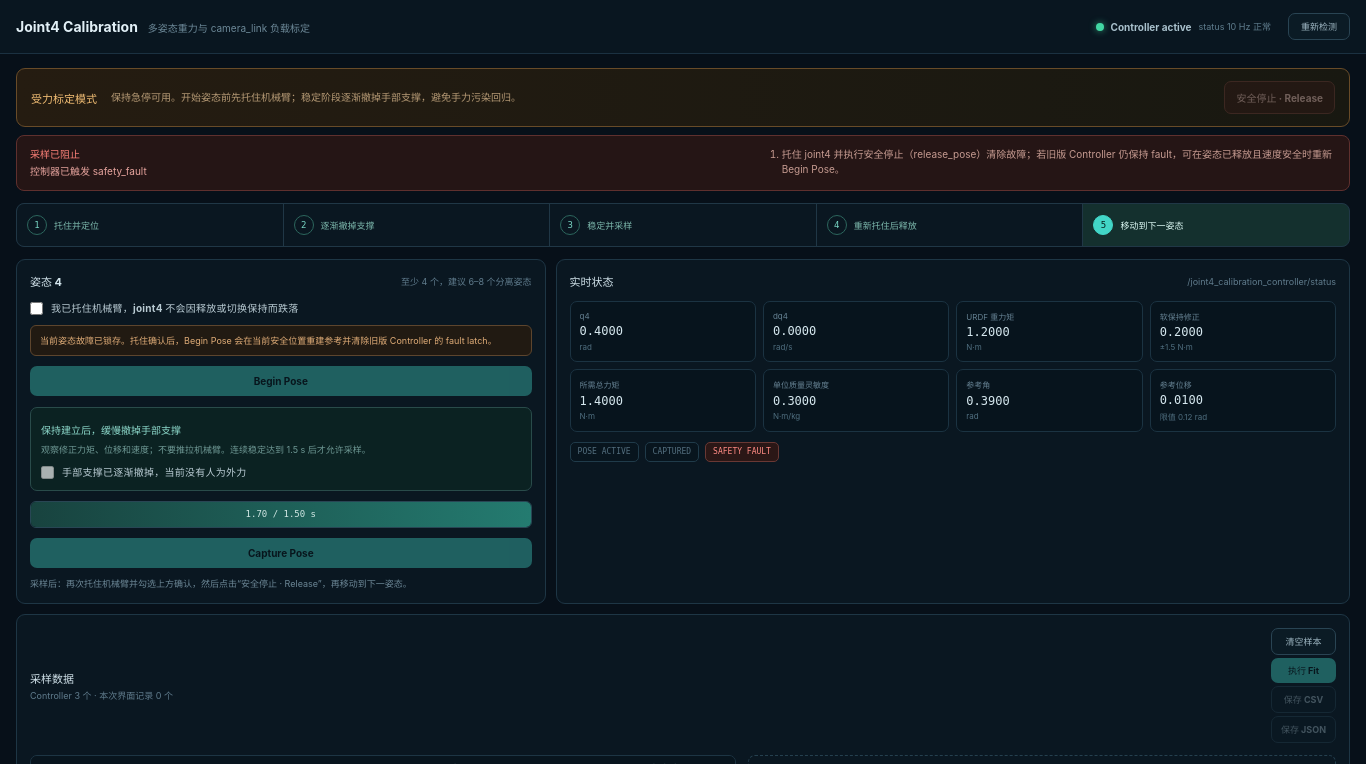
Test: Joint4CalibrationPage › blocks capture on safety fault but permits supported Begin Pose recovery
Check: the message shows "控制器已触发 safety_fault", box left=30, top=165, right=147, bottom=177
Check: the message shows "托住 joint4", box left=782, top=148, right=1332, bottom=175
What coordinates should you click on to do the following:
click the checkbox labelled "我已托住机械臂，joint4 不会因释放或切换保持而跌落"
I would click on:
 (36, 308)
Its box is left=30, top=302, right=43, bottom=315.
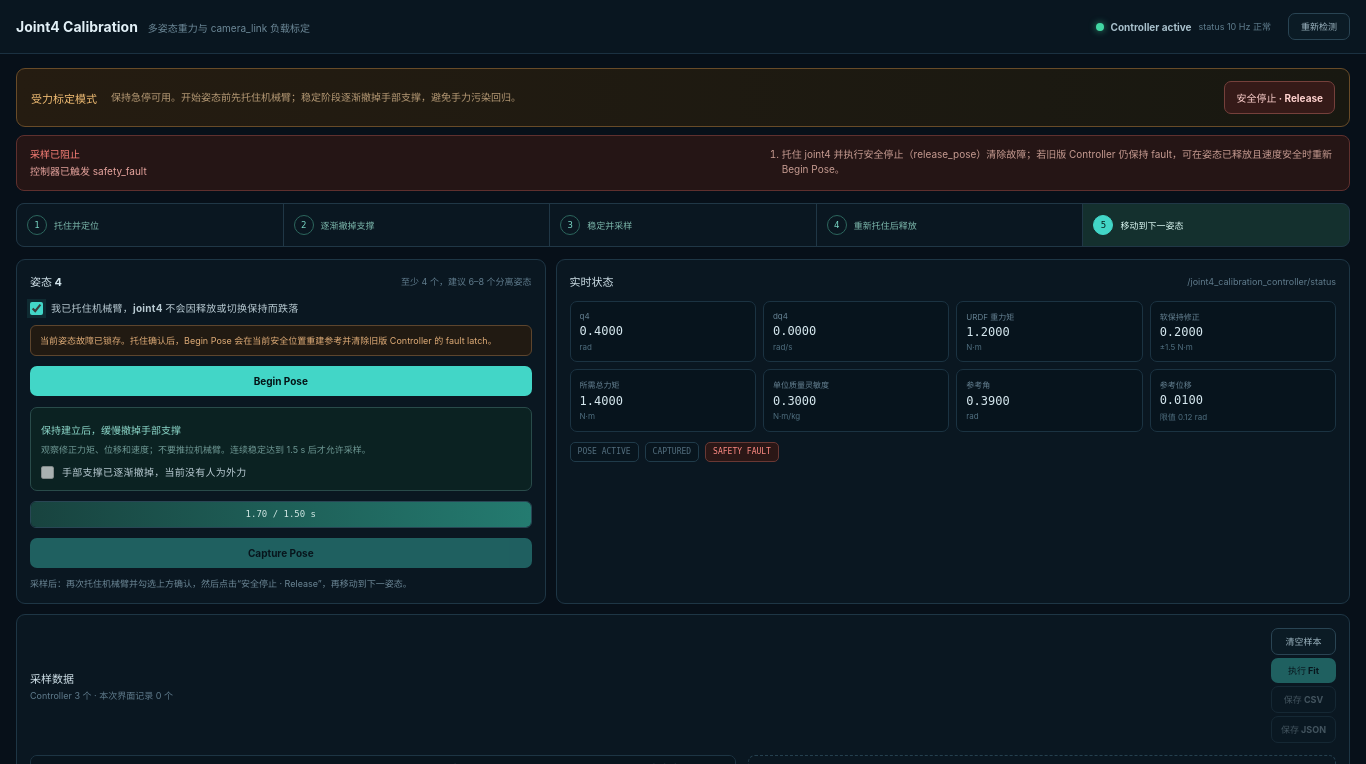
Check: the text "重建参考并清除旧版 Controller" is shown, box left=40, top=334, right=497, bottom=346
Check: the button "Begin Pose" is enabled, box left=30, top=366, right=532, bottom=396
